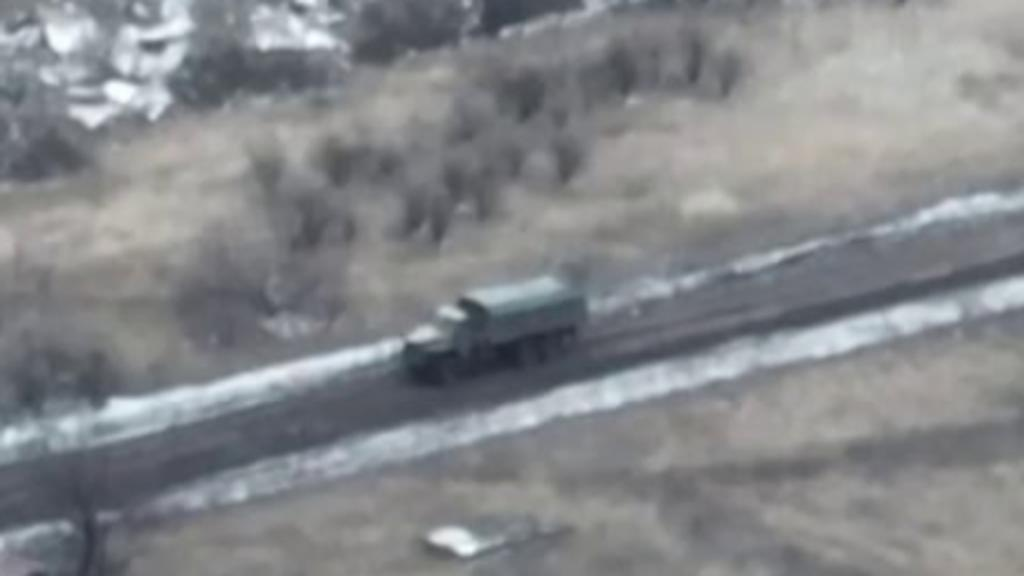TRUCK: (396, 273, 582, 384)
